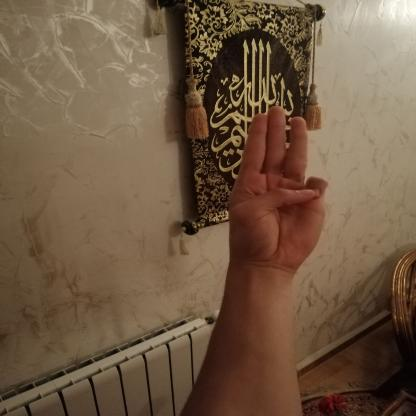THA: (212, 96, 338, 280)
